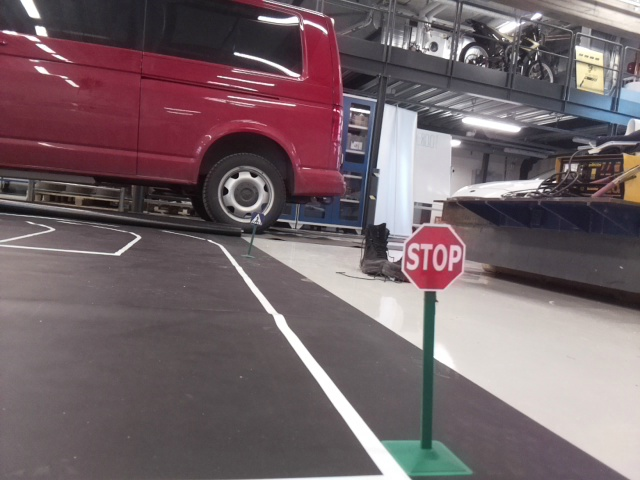Stop: (398, 221, 467, 291)
